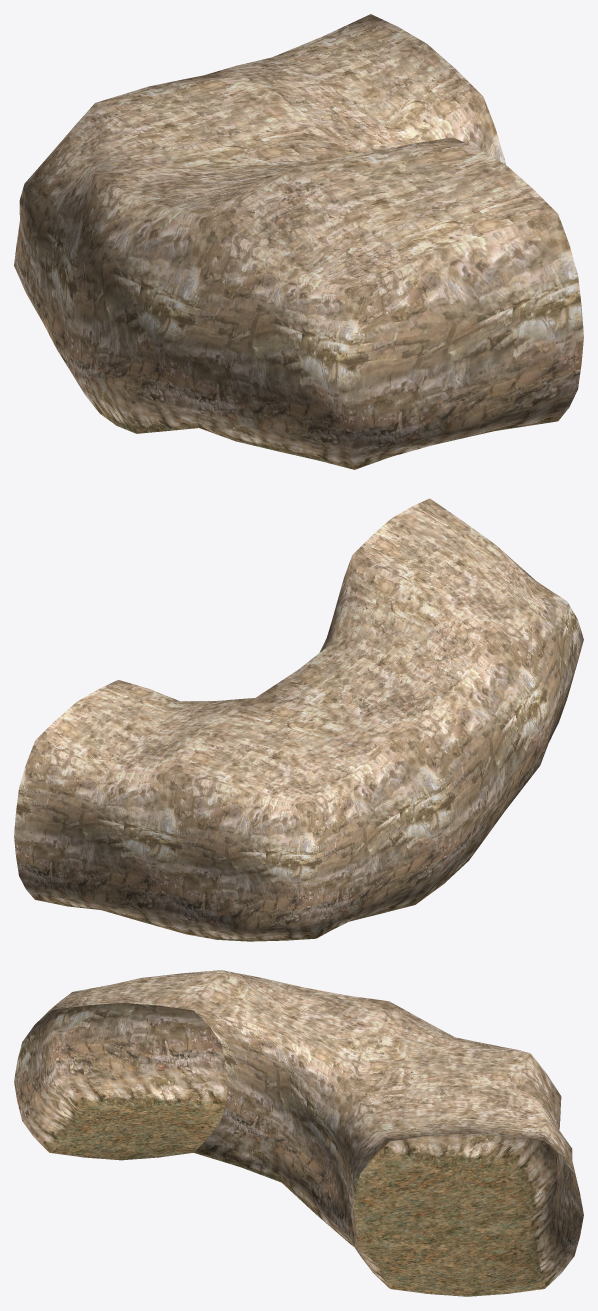
File: thm_all_cave_flatland_s03_r18_mesh_r18.fbx
The picture shows the model from 3 angles, top to bottom: view 1: azimuth 30°, elevation 25°; view 2: azimuth 150°, elevation 25°; view 3: azimuth 270°, elevation 25°; orthographic projection. The views are drawn at different scales.
Parts seen in each view (by area): view 1: mesh_node; view 2: mesh_node; view 3: mesh_node.
Boxes of the visible parts, x1,y1,x2,y2 form: mesh_node: [14, 14, 583, 469]; mesh_node: [14, 498, 583, 941]; mesh_node: [14, 970, 583, 1296].
Size of the model in its own units: 16.71 by 12.57 by 26.76.
